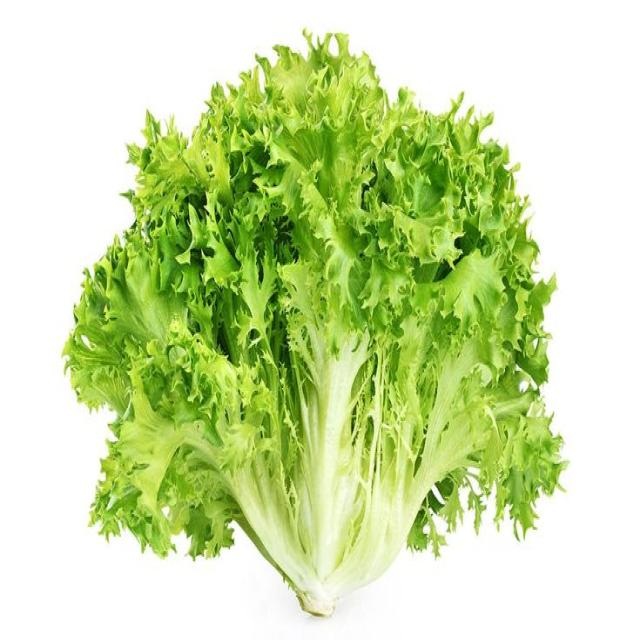lettuce: (66, 36, 563, 614)
